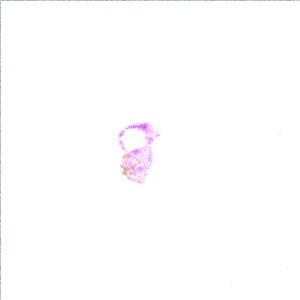Infected: (115, 119, 164, 187)
